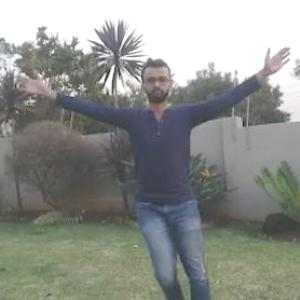takeoff: (7, 52, 278, 299)
